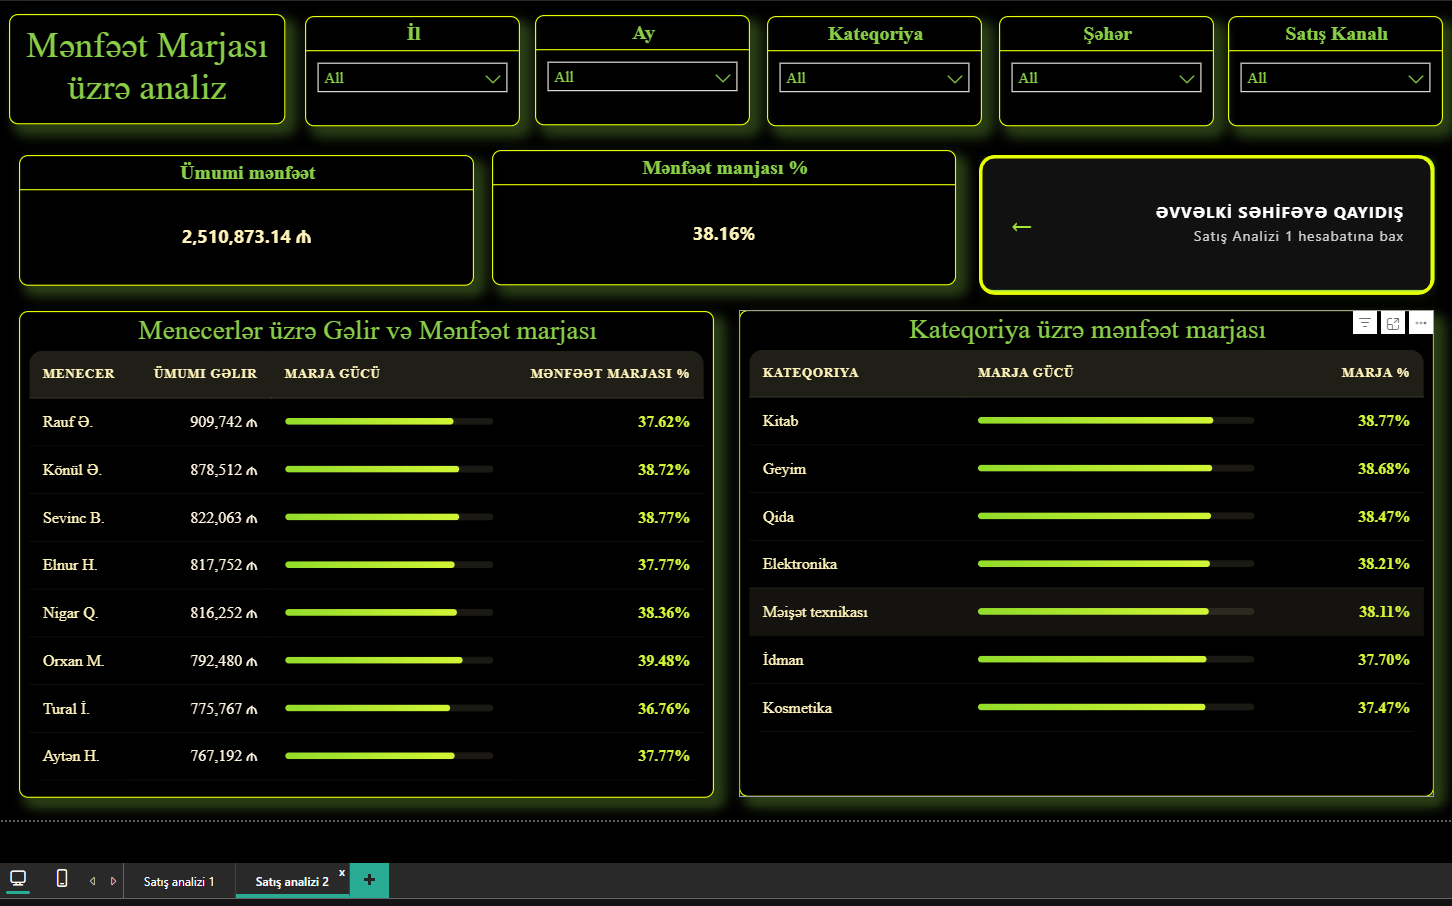

This screenshot's page, from the dashboard's own definition file:
{"tool":"powerbi","page":{"name":"Satış analizi 2","canvas":[1280,720],"ordinal":1},"visuals":[{"type":"htmlContent443BE3AD55E043BF878BED274D3A6865","title":"Menecerlər üzrə Gəlir və Mənfəət marjası","fields":{"content":["DAXs.Menecer Performans Cədvəli"]},"box":[20,272.2,611,427.8],"z":0},{"type":"htmlContent443BE3AD55E043BF878BED274D3A6865","title":"Kateqoriya üzrə mənfəət marjası","fields":{"content":["DAXs.Müştəri Marja Cədvəli"]},"box":[653,272,611,428],"z":1000},{"type":"slicer","title":"İl","fields":{"Values":["tarix.Date.Variation.Date Hierarchy.Year"]},"box":[271.4,12.9,189,97.1],"z":2000},{"type":"slicer","title":"Ay","fields":{"Values":["tarix.Date.Variation.Date Hierarchy.Month"]},"box":[474,12,189,97],"z":3000},{"type":"slicer","title":"Kateqoriya","fields":{"Values":["Satış.Kateqoriya"]},"box":[678,12.9,189,97.1],"z":4000},{"type":"slicer","title":"Şəhər","fields":{"Values":["Satış.Şəhər"]},"box":[882,12.9,189,97.1],"z":5000},{"type":"slicer","title":"Satış Kanalı","fields":{"Values":["Satış.Satış_Kanalı"]},"box":[1083,12.9,189,97.1],"z":6000},{"type":"textbox","box":[11.4,11.4,242.9,97.1],"z":7000},{"type":"card","title":"Ümumi mənfəət","fields":{"Values":["DAXs.Ümumi mənfəət"]},"box":[20,135,400,115],"z":8000},{"type":"card","title":"Mənfəət manjası %","fields":{"Values":["DAXs.Mənfəət Marjası %"]},"box":[436,131,408,119],"z":9000},{"type":"htmlContent443BE3AD55E043BF878BED274D3A6865","fields":{"content":["DAXs.Geri Qayıdış Düyməsi"]},"box":[860,131,412,141],"z":10000},{"type":"actionButton","box":[864,135,400,123],"z":11000}]}

Visuals, with their boxes in screenshot pixels (x1, y1, x2, y2):
"Menecerlər üzrə Gəlir və Mənfəət marjası" htmlContent443BE3AD55E043BF878BED274D3A6865: rect(34, 308, 717, 787)
"Kateqoriya üzrə mənfəət marjası" htmlContent443BE3AD55E043BF878BED274D3A6865: rect(742, 308, 1425, 787)
"İl" slicer: rect(315, 18, 526, 127)
"Ay" slicer: rect(542, 17, 753, 126)
"Kateqoriya" slicer: rect(770, 18, 981, 127)
"Şəhər" slicer: rect(998, 18, 1209, 127)
"Satış Kanalı" slicer: rect(1223, 18, 1434, 127)
textbox: rect(24, 17, 296, 125)
"Ümumi mənfəət" card: rect(34, 155, 481, 283)
"Mənfəət manjası %" card: rect(499, 150, 956, 283)
htmlContent443BE3AD55E043BF878BED274D3A6865 - DAXs.Geri Qayıdış Düyməsi: rect(973, 150, 1434, 308)
actionButton: rect(978, 155, 1425, 292)
